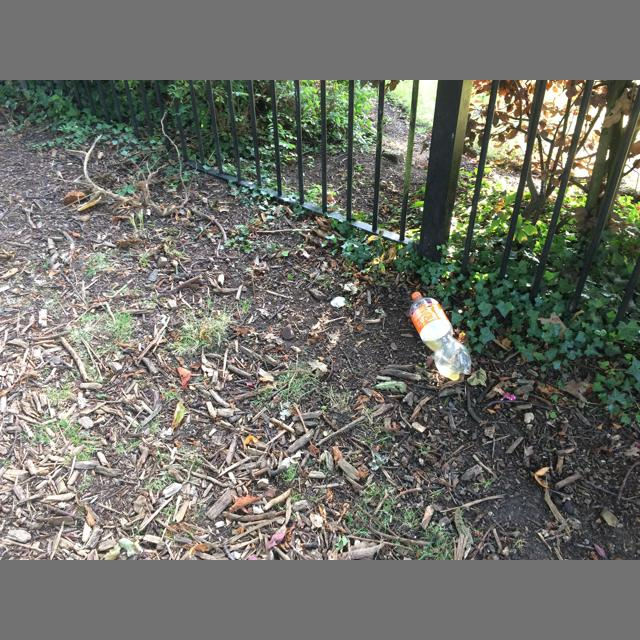litter: (409, 292, 471, 381), (500, 392, 516, 400), (411, 291, 421, 297)
